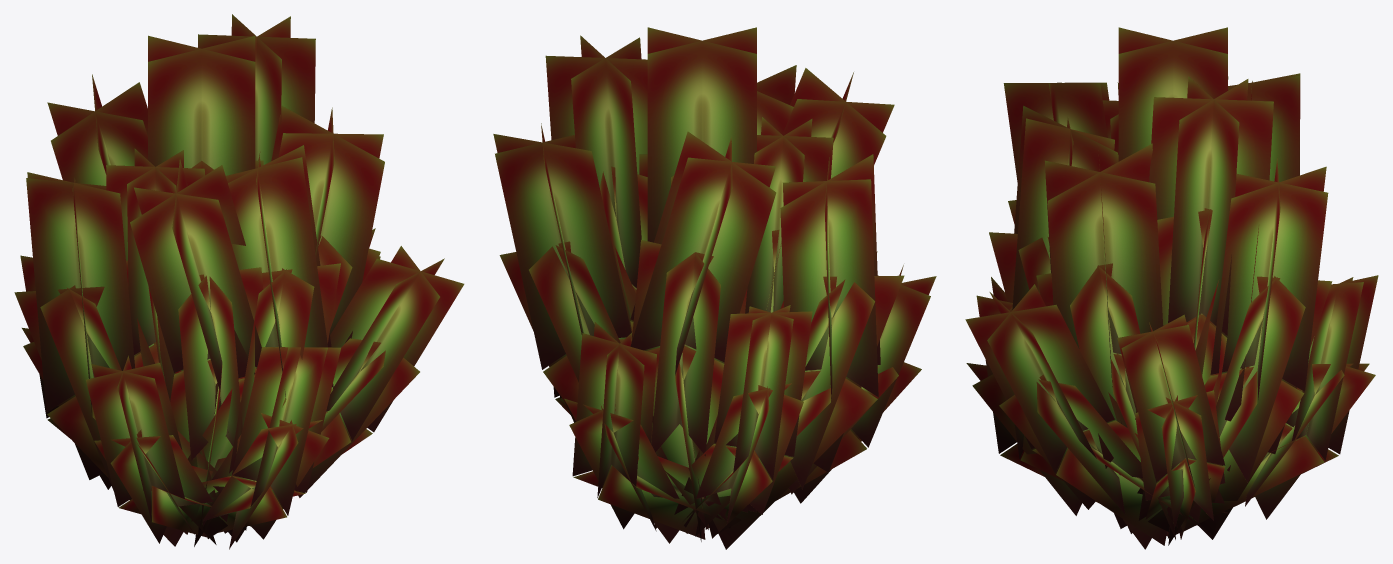
The picture shows the model from 3 angles, left to right: view 1: azimuth 30°, elevation 25°; view 2: azimuth 150°, elevation 25°; view 3: azimuth 270°, elevation 25°; orthographic projection.
Parts seen in each view (by area): view 1: bush; view 2: bush; view 3: bush.
Part boxes in pixels (box(x1,y1,x2,y2)): bush: box(14, 14, 464, 549); bush: box(493, 27, 936, 549); bush: box(965, 27, 1378, 549).
Bounding box in the file's own units: 277 × 369 × 275.
1 material, 1 textured.
